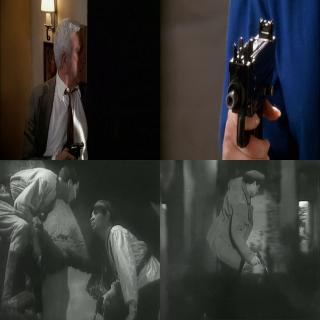gun: (222, 13, 276, 158), (248, 246, 270, 274), (87, 293, 107, 319), (64, 137, 84, 159)
